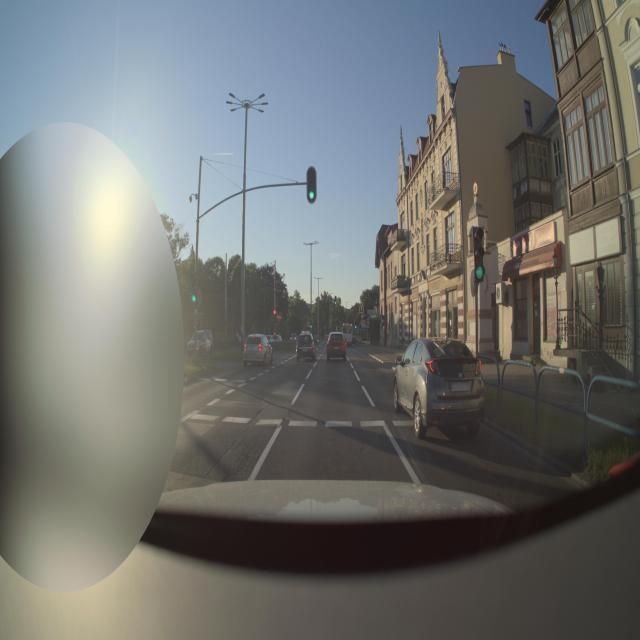green_light: (472, 222, 486, 288), (303, 162, 319, 206)
